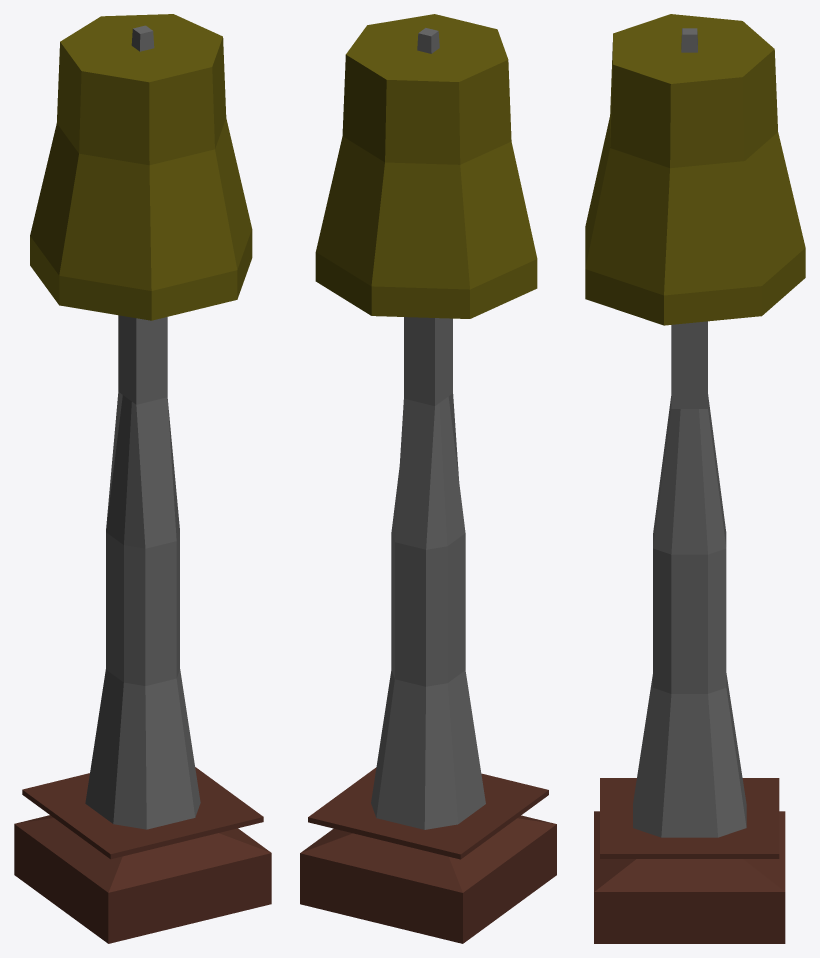
File: Lamp.fbx
The picture shows the model from 3 angles, left to right: view 1: azimuth 30°, elevation 25°; view 2: azimuth 150°, elevation 25°; view 3: azimuth 270°, elevation 25°; orthographic projection.
Parts seen in each view (by area): view 1: Cylinder.020, Cube.081, Cube.084; view 2: Cylinder.020, Cube.081, Cube.084; view 3: Cylinder.020, Cube.081, Cube.084.
Part boxes in pixels (x1,y1,x2,y2): Cylinder.020: (30, 14, 252, 320); Cube.081: (85, 25, 200, 829); Cube.084: (14, 767, 271, 943); Cylinder.020: (315, 14, 537, 318); Cube.081: (371, 28, 485, 829); Cube.084: (300, 767, 556, 943); Cylinder.020: (585, 14, 805, 325); Cube.081: (633, 28, 746, 837); Cube.084: (594, 778, 785, 943).
Bounding box in the file's own units: 61.93 × 264 × 60.37.
